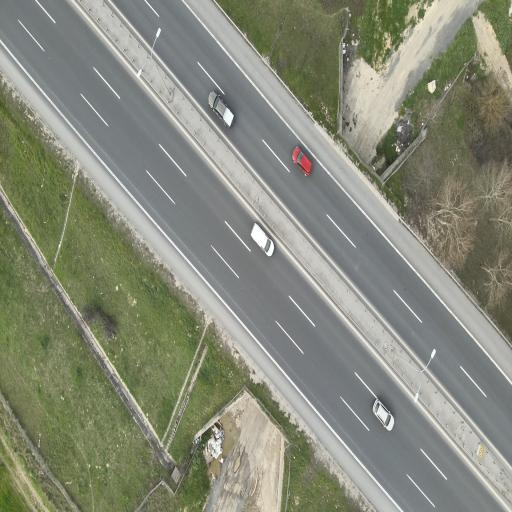car: (209, 92, 233, 127), (251, 223, 274, 255), (373, 399, 394, 430), (293, 147, 312, 176)
